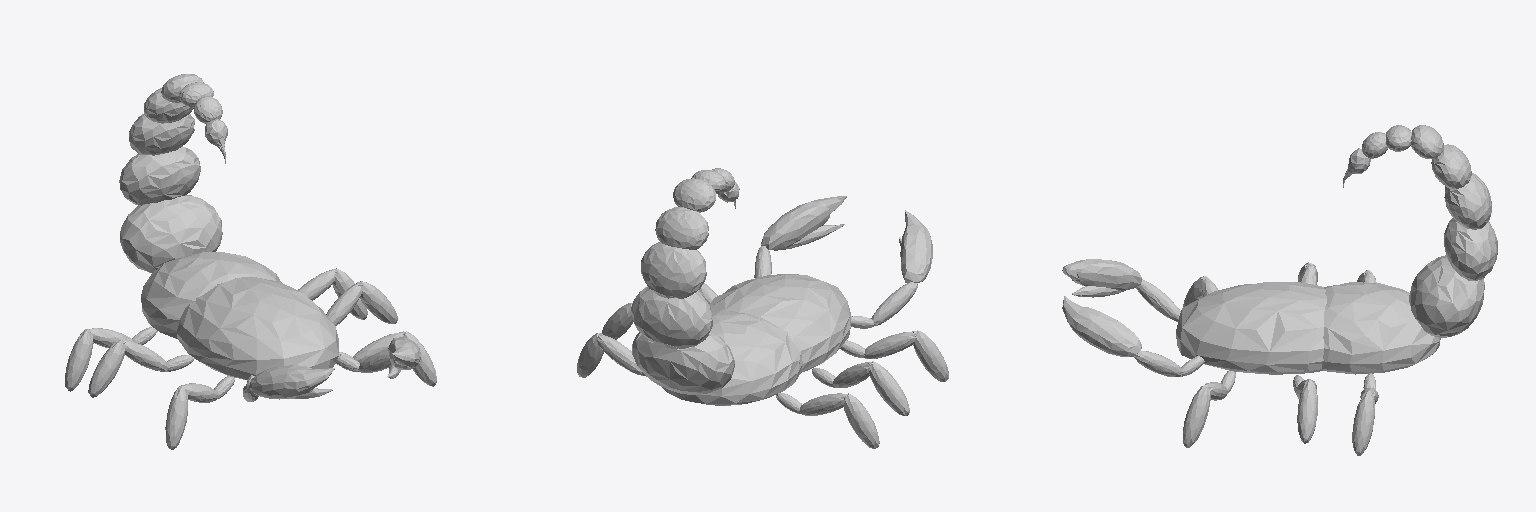
Rendered from scorpion_000021.obj.
3 views of the same model, side by side, from view 1: azimuth 30°, elevation 25°; view 2: azimuth 150°, elevation 25°; view 3: azimuth 270°, elevation 25° (orthographic).
Visible parts, largest first — view 1: Sphere.010_Sphere.012, Sphere.002_Sphere.004, Sphere.011_Sphere.013, Sphere.003_Sphere.005, Sphere.030_Sphere.000, Sphere.012_Sphere.020, Sphere.004_Sphere.006, Sphere.000_Sphere.019, Sphere.014_Sphere.023, Sphere.016_Sphere.022, Sphere.018_Sphere.025, Sphere.013_Sphere.017 (+6 smaller); view 2: Sphere.010_Sphere.012, Sphere.011_Sphere.013, Sphere.002_Sphere.004, Sphere.030_Sphere.000, Sphere.003_Sphere.005, Sphere.004_Sphere.006, Sphere.005_Sphere.007, Sphere.014_Sphere.023, Sphere.012_Sphere.020, Sphere.018_Sphere.025, Sphere.028_Sphere.046, Sphere.006_Sphere.008 (+3 smaller); view 3: Sphere.010_Sphere.012, Sphere.011_Sphere.013, Sphere.002_Sphere.004, Sphere.030_Sphere.000, Sphere.003_Sphere.005, Sphere.004_Sphere.006, Sphere.028_Sphere.046, Sphere.000_Sphere.019, Sphere.005_Sphere.007, Sphere.012_Sphere.020, Sphere.014_Sphere.023, Sphere.006_Sphere.008 (+2 smaller).
Boxes of the visible parts, x1,y1,x2,y2 form: Sphere.010_Sphere.012: [177, 277, 338, 380]; Sphere.002_Sphere.004: [120, 195, 222, 272]; Sphere.011_Sphere.013: [141, 252, 281, 338]; Sphere.003_Sphere.005: [119, 146, 200, 205]; Sphere.030_Sphere.000: [249, 337, 420, 399]; Sphere.012_Sphere.020: [88, 281, 397, 397]; Sphere.004_Sphere.006: [129, 114, 194, 155]; Sphere.000_Sphere.019: [165, 331, 436, 449]; Sphere.014_Sphere.023: [65, 268, 367, 391]; Sphere.016_Sphere.022: [124, 282, 361, 371]; Sphere.018_Sphere.025: [89, 270, 335, 347]; Sphere.013_Sphere.017: [179, 331, 403, 402]; Sphere.010_Sphere.012: [710, 274, 850, 372]; Sphere.011_Sphere.013: [662, 310, 802, 405]; Sphere.002_Sphere.004: [632, 331, 734, 394]; Sphere.030_Sphere.000: [761, 196, 932, 282]; Sphere.003_Sphere.005: [631, 286, 712, 348]; Sphere.004_Sphere.006: [641, 242, 706, 298]; Sphere.005_Sphere.007: [655, 207, 708, 249]; Sphere.014_Sphere.023: [577, 333, 879, 448]; Sphere.012_Sphere.020: [602, 303, 909, 415]; Sphere.018_Sphere.025: [597, 334, 846, 415]; Sphere.028_Sphere.046: [754, 245, 917, 325]; Sphere.006_Sphere.008: [673, 178, 715, 212]; Sphere.010_Sphere.012: [1176, 282, 1326, 374]; Sphere.011_Sphere.013: [1322, 282, 1440, 374]; Sphere.002_Sphere.004: [1409, 255, 1484, 337]; Sphere.030_Sphere.000: [1062, 259, 1141, 356]; Sphere.003_Sphere.005: [1444, 218, 1497, 280]; Sphere.004_Sphere.006: [1444, 173, 1491, 229]; Sphere.028_Sphere.046: [1134, 279, 1182, 376]; Sphere.000_Sphere.019: [1183, 276, 1210, 447]; Sphere.005_Sphere.007: [1431, 144, 1471, 188]; Sphere.012_Sphere.020: [1297, 262, 1317, 443]; Sphere.014_Sphere.023: [1352, 270, 1374, 455]; Sphere.006_Sphere.008: [1411, 125, 1443, 158].
Bounding box in the file's own units: 0.962 × 0.7666 × 1.18.